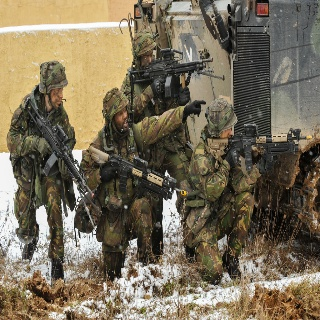rifle: (23, 98, 101, 209), (205, 120, 313, 174), (129, 47, 226, 96), (100, 151, 186, 203)
